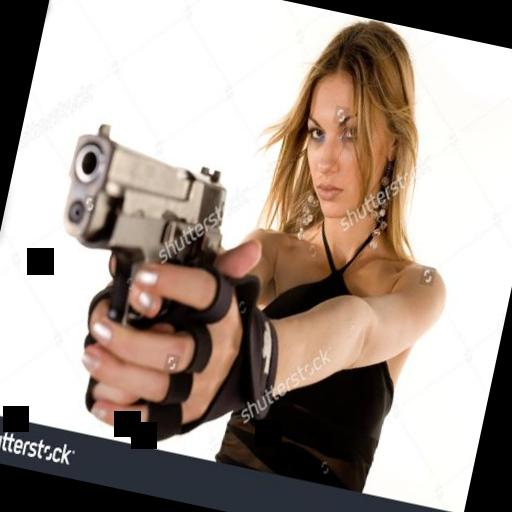Handgun: (16, 118, 242, 432)
